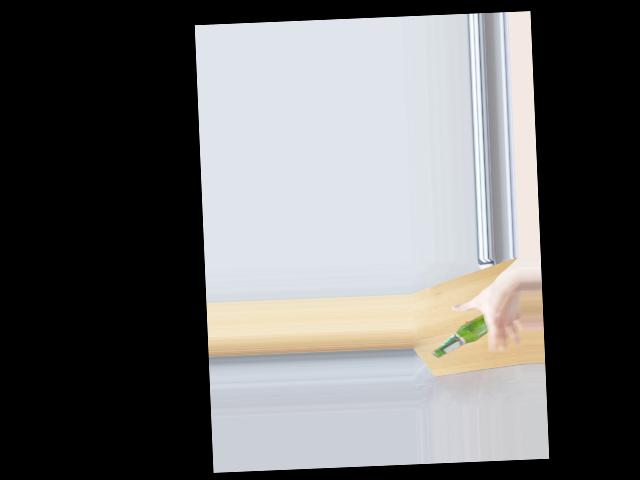beer: (430, 313, 488, 357)
